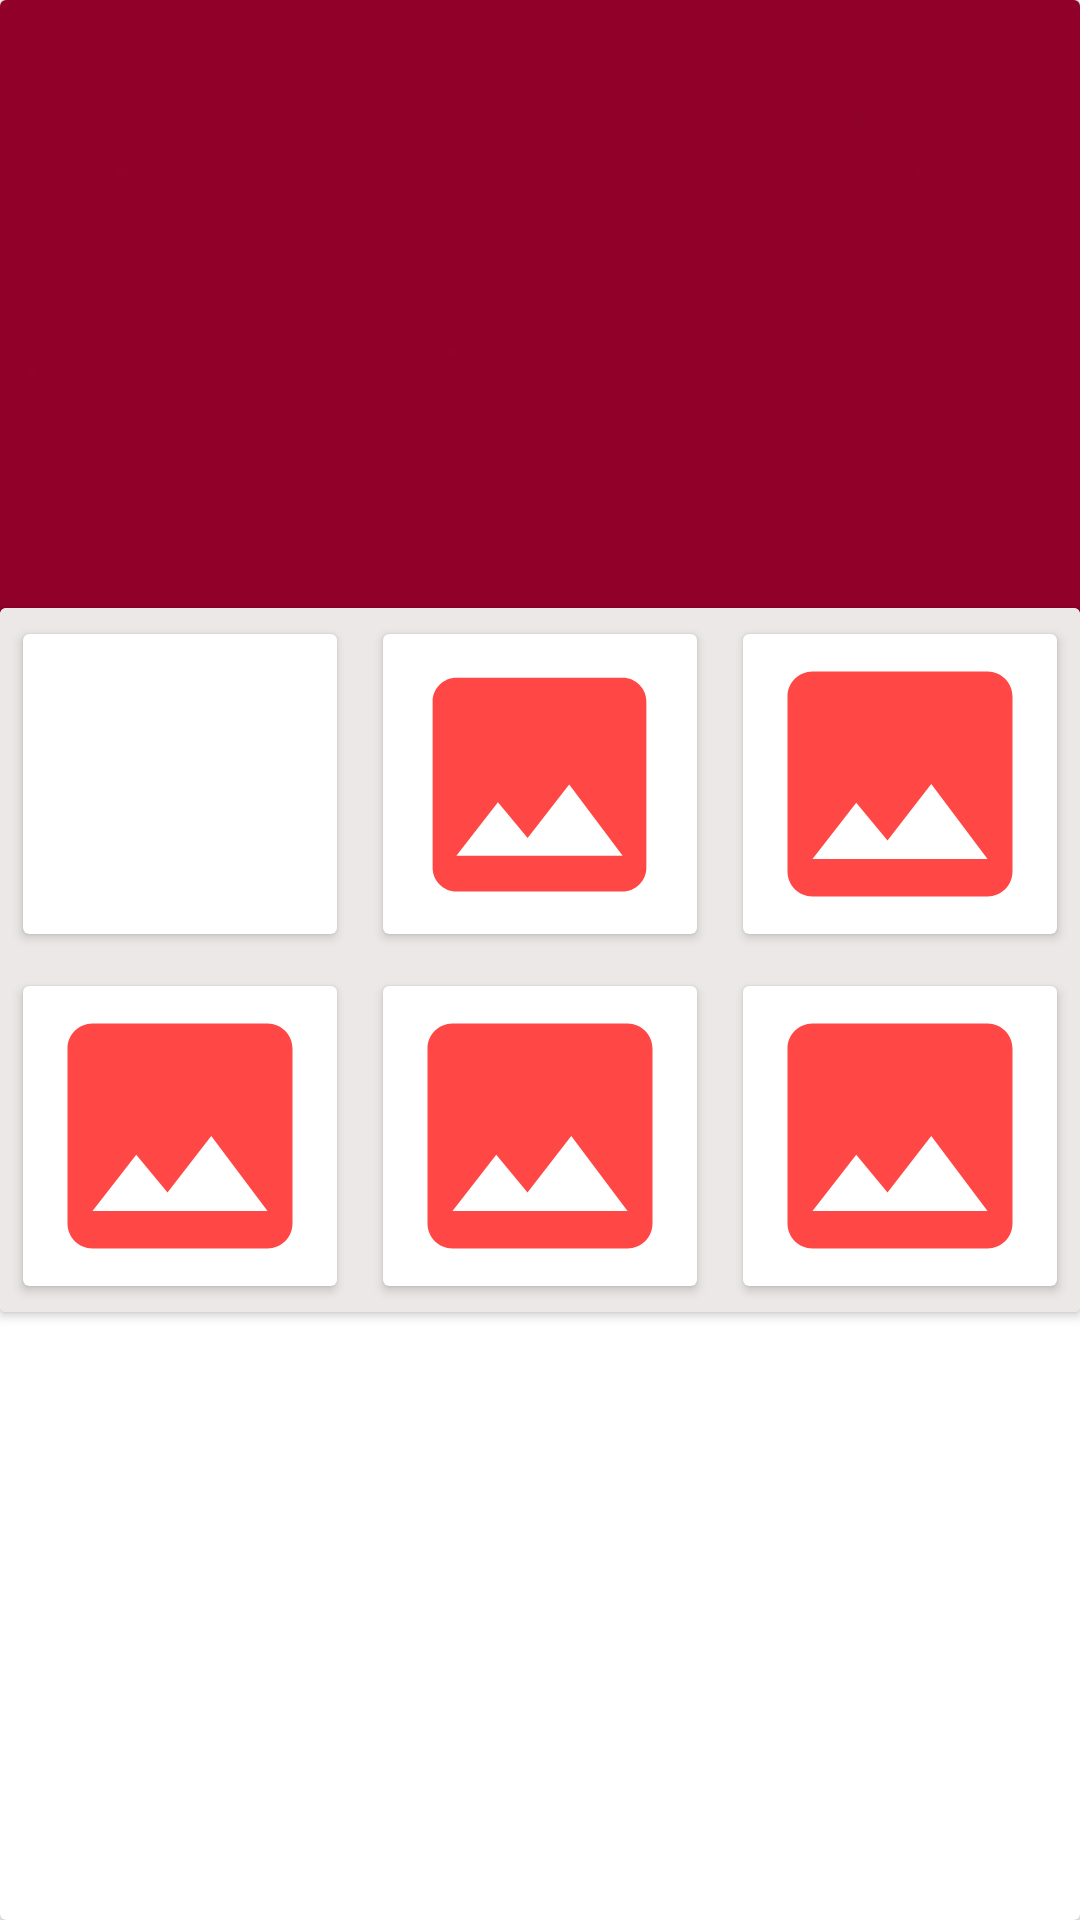

Where to tap for icons on this 1080×1920 app screen, as point (x, y):
photo: point (900, 784), point (539, 784), point (180, 1136), point (540, 1136), point (900, 1136)
